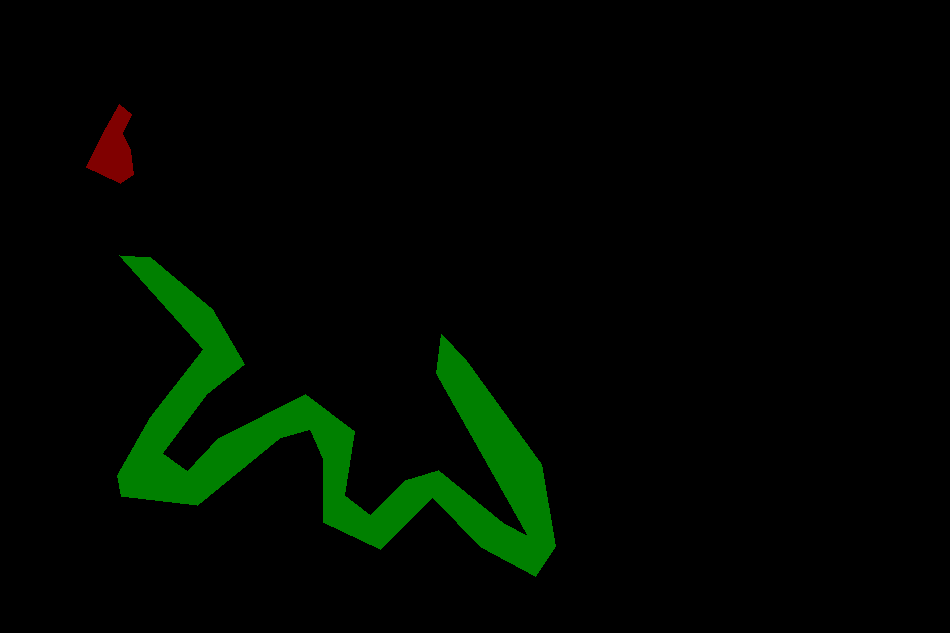fire: (117, 255, 555, 576), (86, 104, 133, 183)
